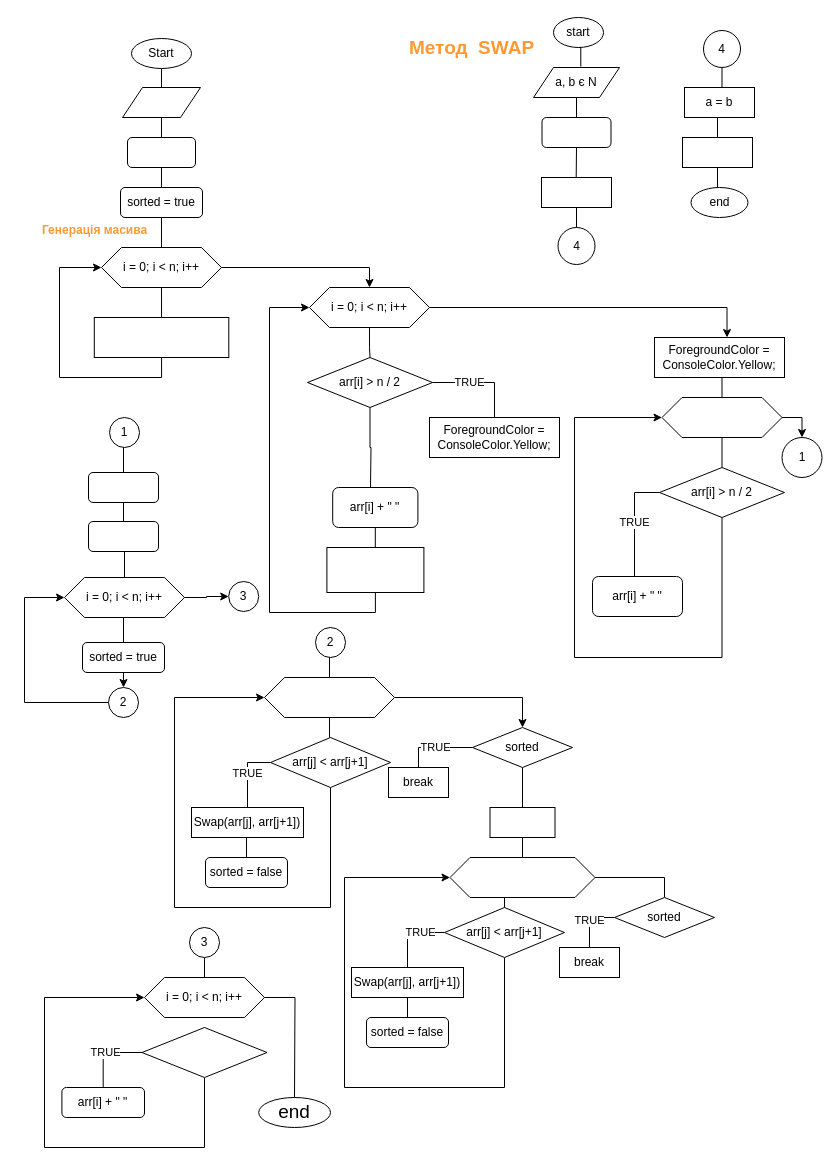
The diagram is 840 pixels wide and 1173 high, and some of its shapes have lost their labels. Here are the shapes that lost their labels. From the top down, the centre of each, then its label:
At [161,102]: "n є N".
At [161,152]: "arr[n]".
At [576,132]: "temp".
At [717,152]: "b = temp".
At [576,192]: "temp = a".
At [161,337]: "arr[i] = Random(-20, 20)".
At [721,417]: "i = n-1; i >= 0; i--".
At [123,487]: "start = 0".
At [123,536]: "end = n - 1".
At [375,569]: "ResetColor();".
At [329,697]: "j = start; j < end; j++".
At [522,822]: "end--".
At [522,877]: "j = end-1; j > start; j--".
At [204,1052]: "arr[i] < n / 2".
